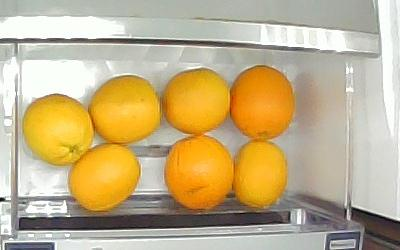orange: (22, 93, 95, 168), (89, 74, 161, 146), (165, 136, 233, 212), (229, 66, 295, 142), (68, 143, 140, 212), (161, 67, 230, 134), (233, 142, 287, 211)
